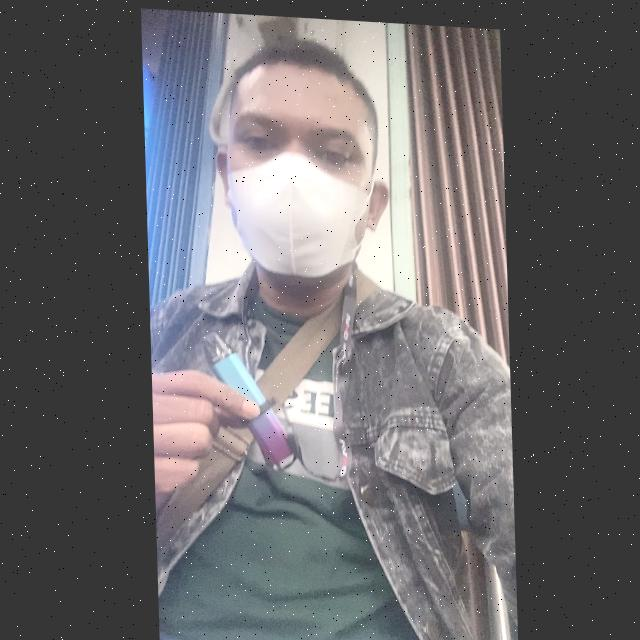vape: (195, 329, 295, 475)
